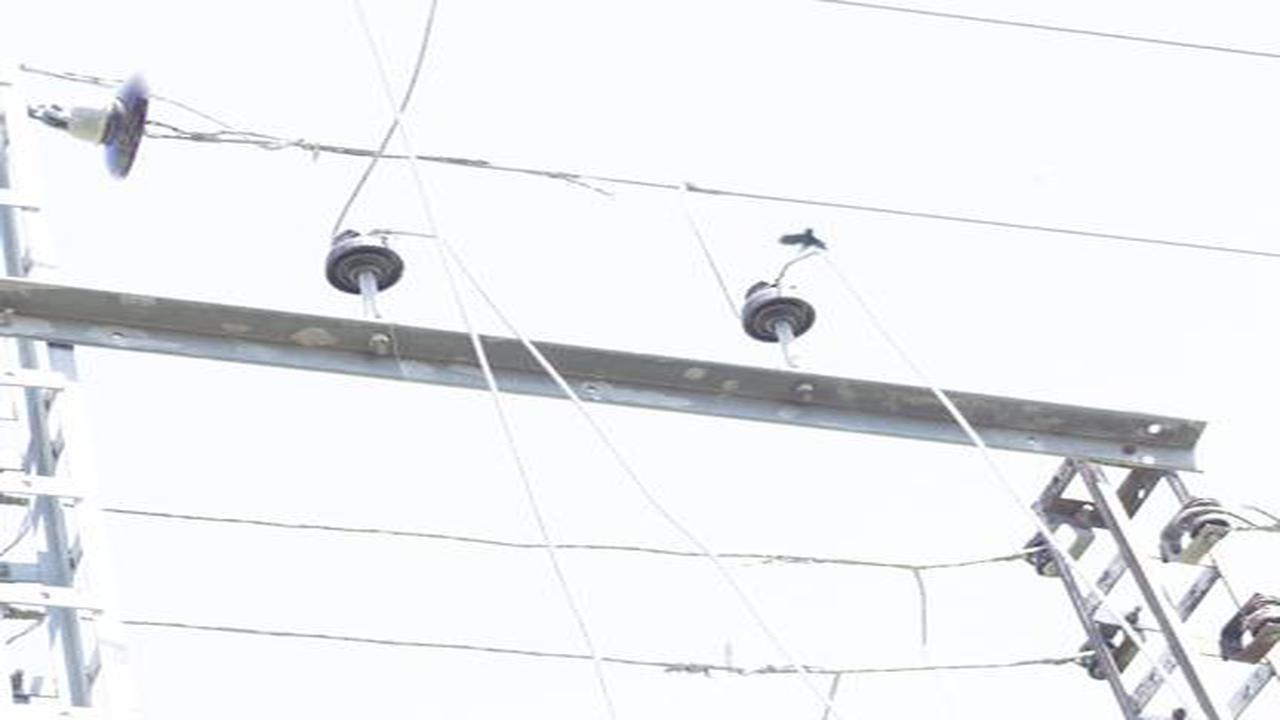insulator_disc: (68, 74, 156, 185)
insulator_pin: (320, 222, 407, 295), (738, 277, 823, 343)
